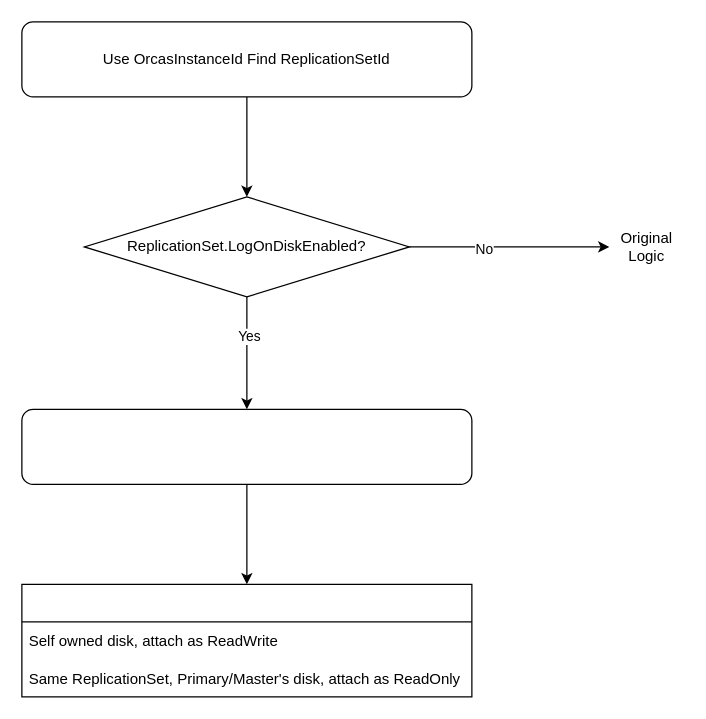
The diagram is 706 pixels wide and 719 high, and some of its shapes have lost their labels. Here are the shapes that lost their labels. From the top down, the box of each, then its label:
(21, 408, 472, 484): Filter <OrcastInstanceId, ManagedDiskId, OrcastInstanceRole> by ReplicationSetID
(21, 583, 472, 697): AttachOperation
